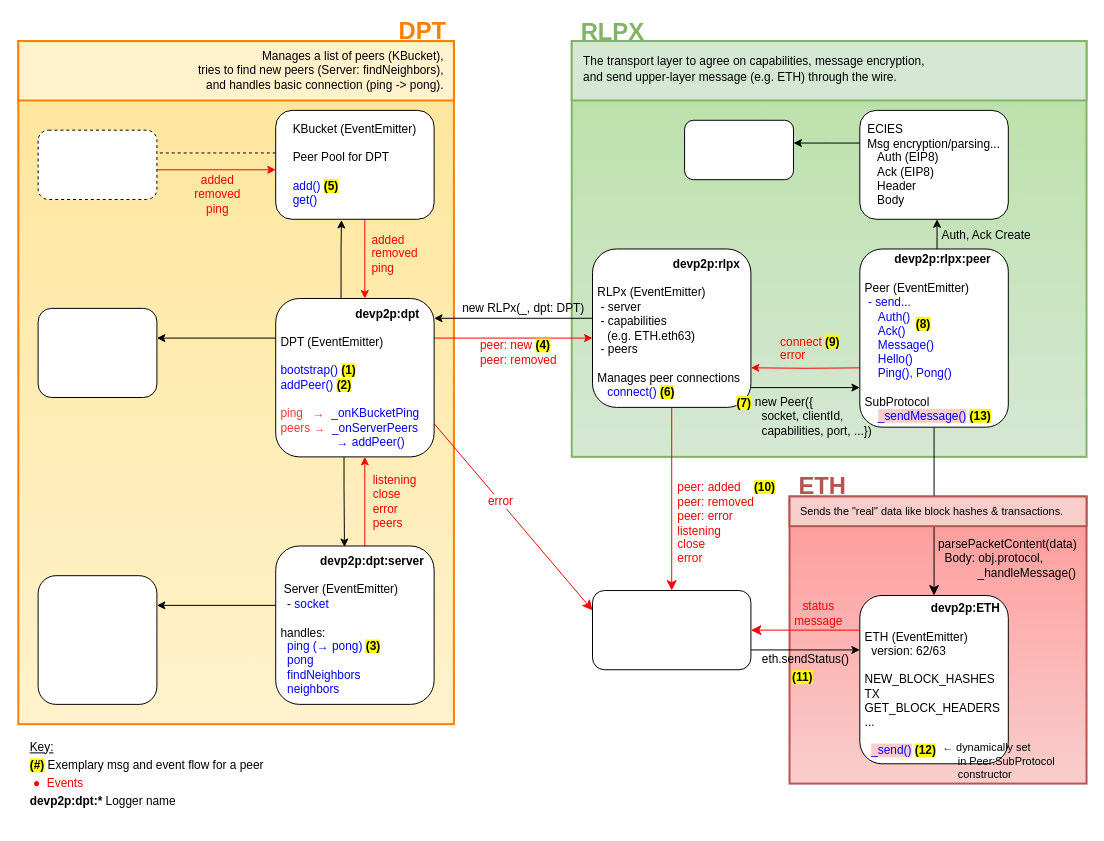
Image size: 1104x841. Some labels were removed from this diagram. Each missing label, with the centre of its shape:
"Consumer See examples/ peer-communication.ts" goes at [671,630].
"devp2p:dpt:ban-list BanList add() has()" goes at [97,352].
"k-bucket Contract object Storage" goes at [97,164].
"MAC updateHeader() updateBody()" goes at [738,149].
"message.ts Encode / decode ping pong findNeighbors neighbors" goes at [97,639].
